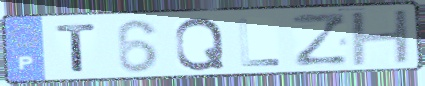6: (114, 18, 164, 75)
H: (348, 7, 415, 68)
L: (236, 16, 283, 69)
Q: (172, 16, 228, 72)
T: (53, 22, 100, 74)
Z: (289, 11, 351, 69)
